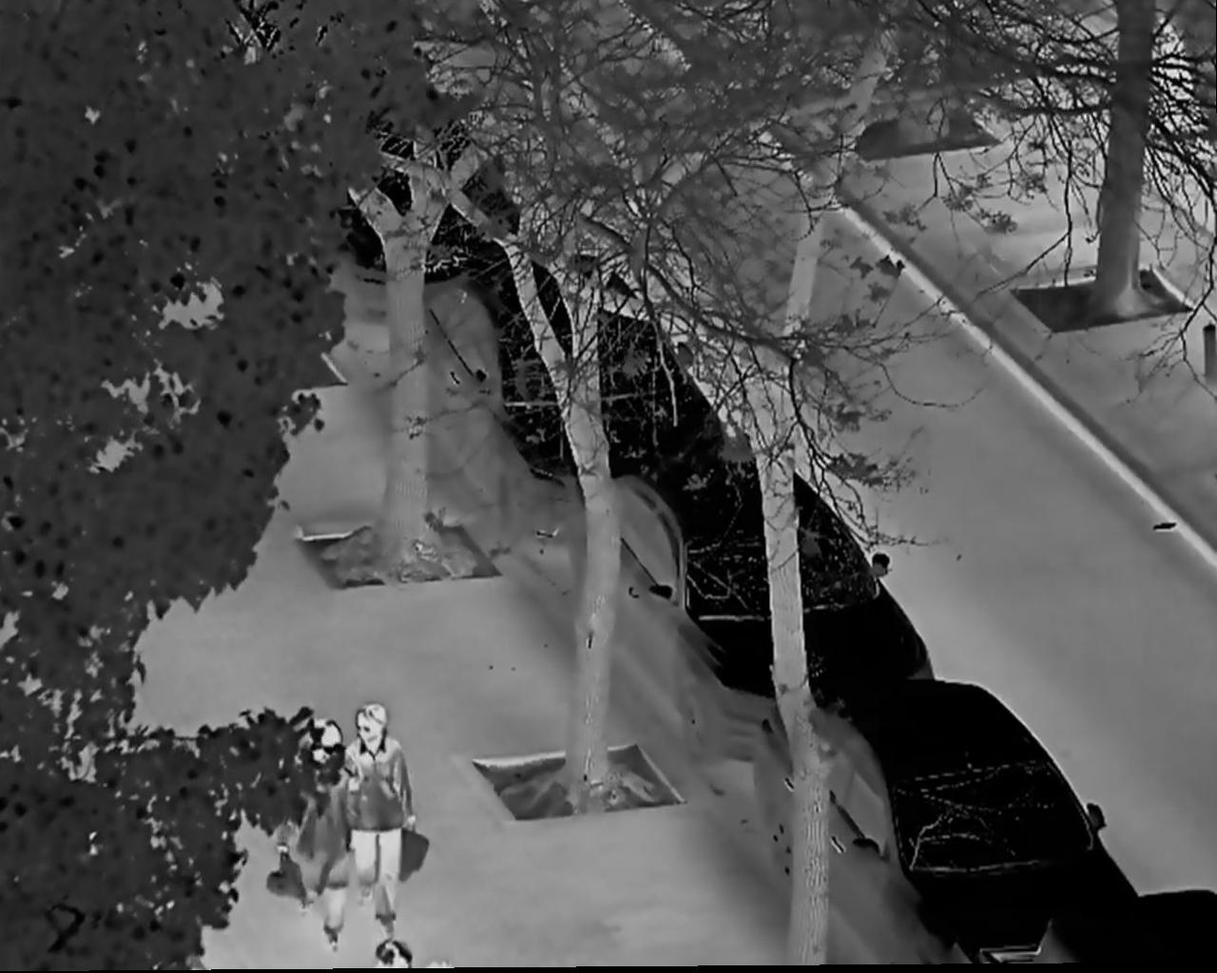person: (344, 705, 411, 943), (283, 716, 351, 944)
